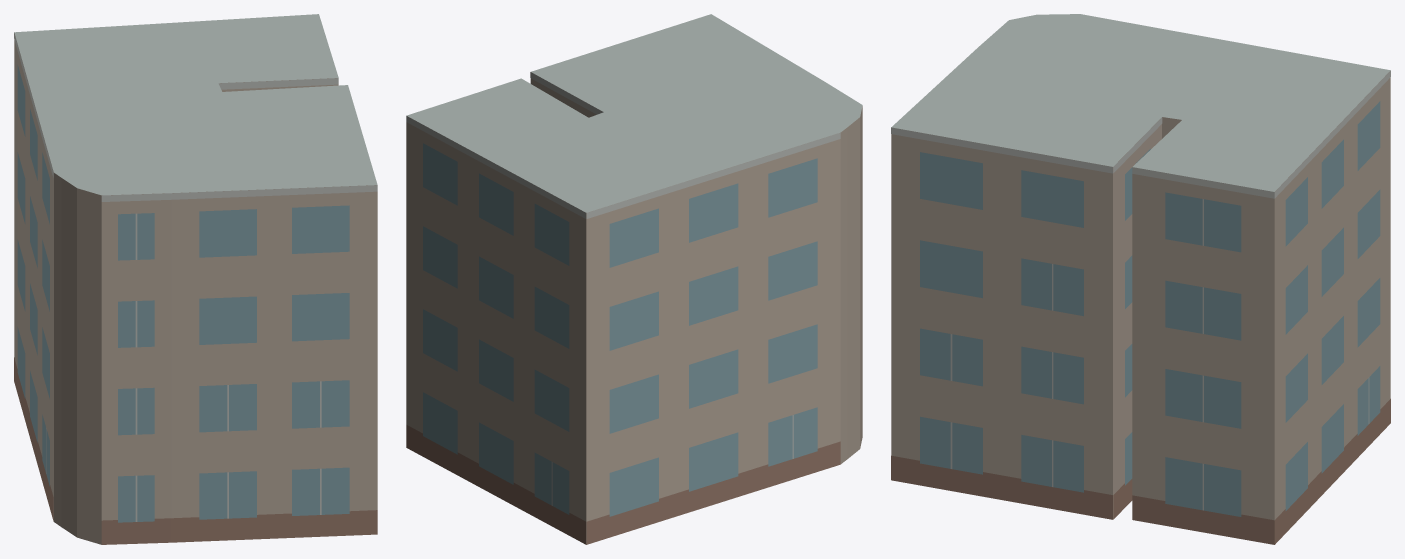
File: survey-upis-32733081.glb
The picture shows the model from 3 angles, left to right: view 1: azimuth 30°, elevation 25°; view 2: azimuth 150°, elevation 25°; view 3: azimuth 270°, elevation 25°; orthographic projection. The views are drawn at different scales.
Visible parts, largest first — view 1: survey-upis-32733081.tmp; view 2: survey-upis-32733081.tmp; view 3: survey-upis-32733081.tmp.
Boxes of the visible parts, box(x1,y1,x2,y2) form: survey-upis-32733081.tmp: box(14, 14, 377, 544); survey-upis-32733081.tmp: box(406, 14, 862, 544); survey-upis-32733081.tmp: box(891, 14, 1390, 544).
Size of the model in its own units: 13.86 by 12.8 by 16.43.
